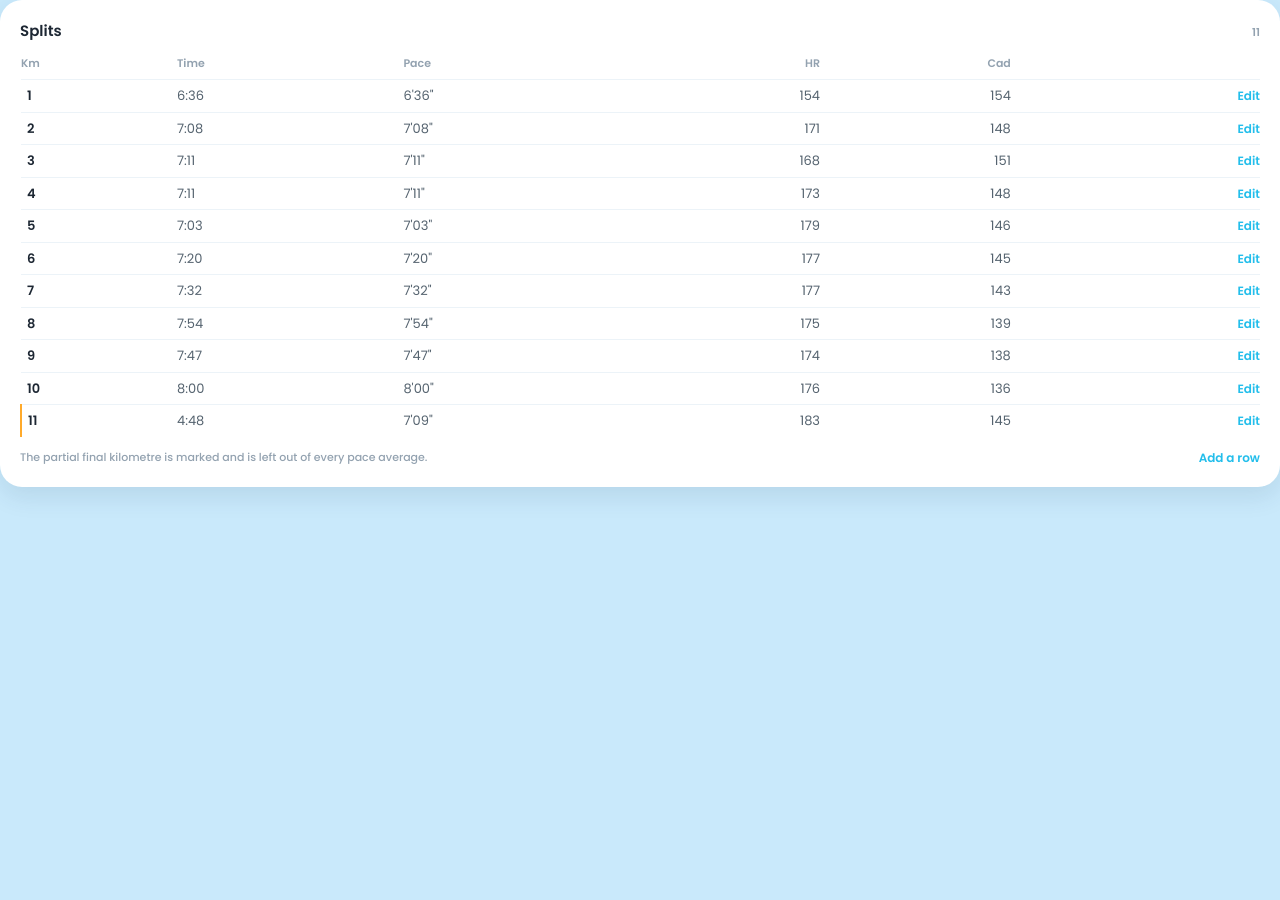
Test case: SplitsTable — the row sheet › Done closes the sheet and the table stays intact
Click the button with aria-label "Edit kilometre 2" at (1249, 128), box [1238, 120, 1260, 138]
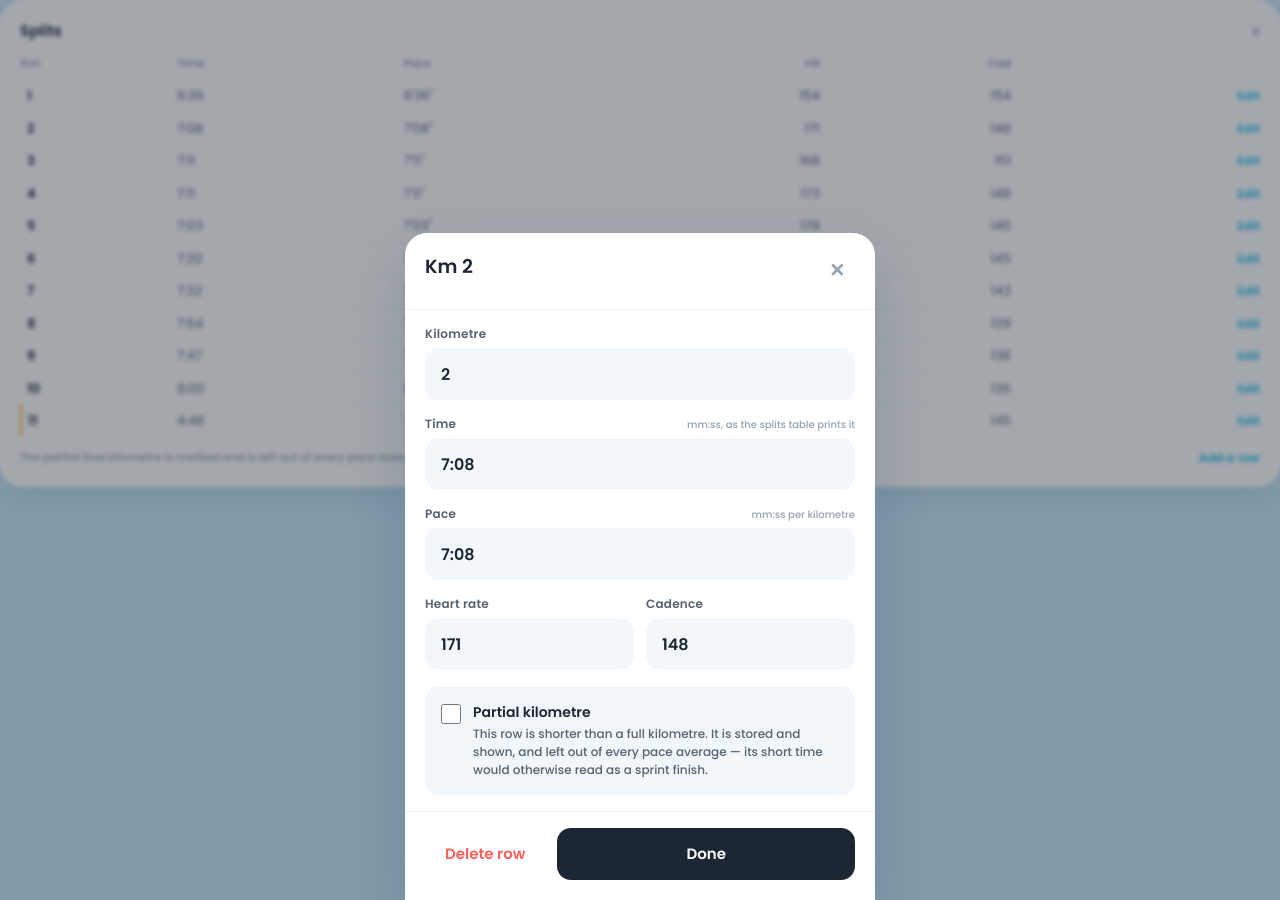
Click the button "Done" at (706, 854), box [557, 828, 855, 880]
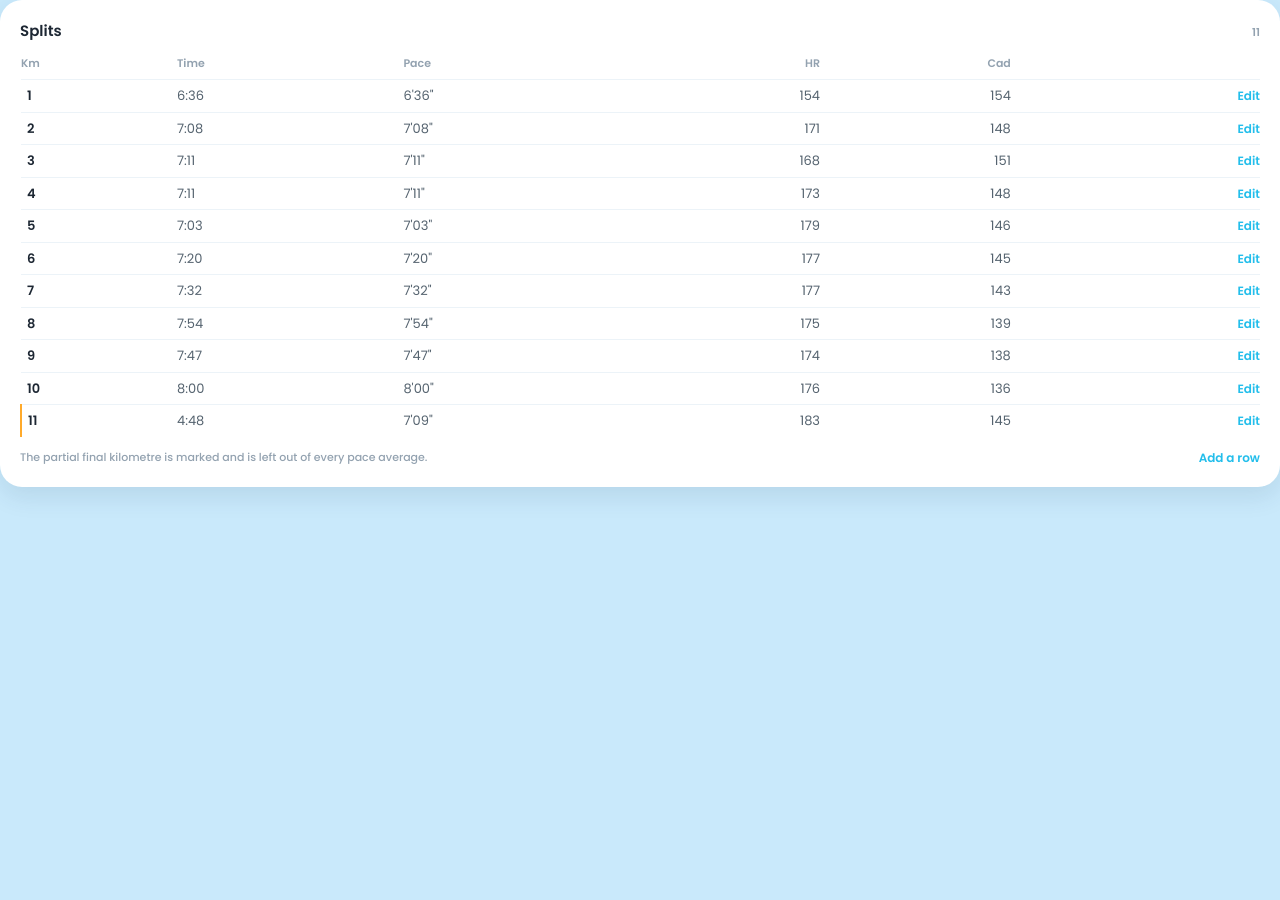
Check: the dialog is gone
